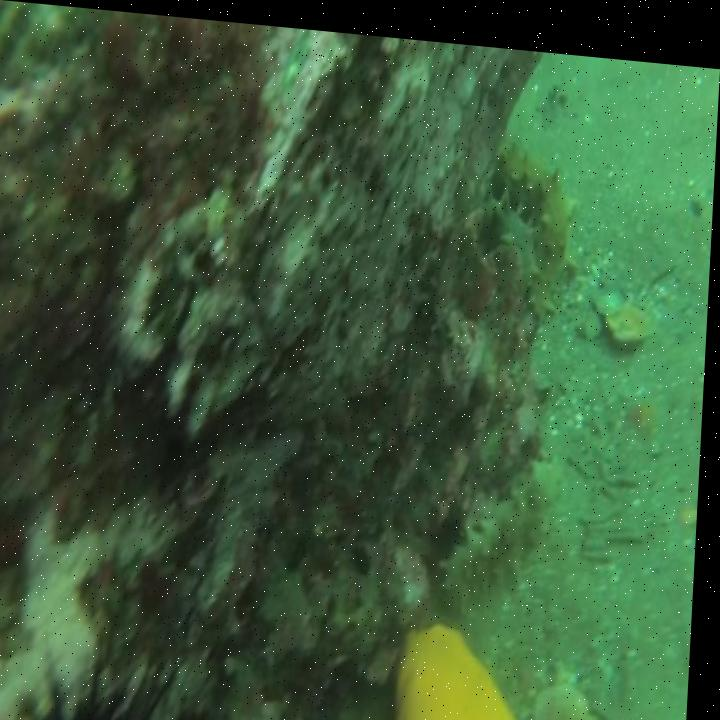holothurian: (450, 422, 571, 619), (489, 120, 586, 322)
